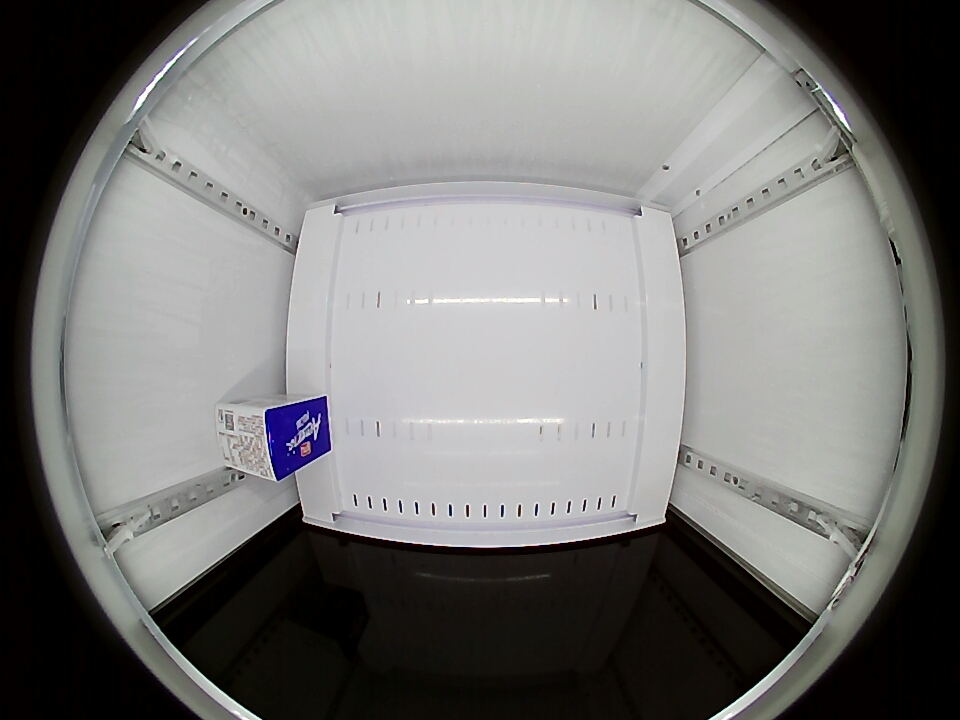meiniye: (216, 399, 298, 482)
